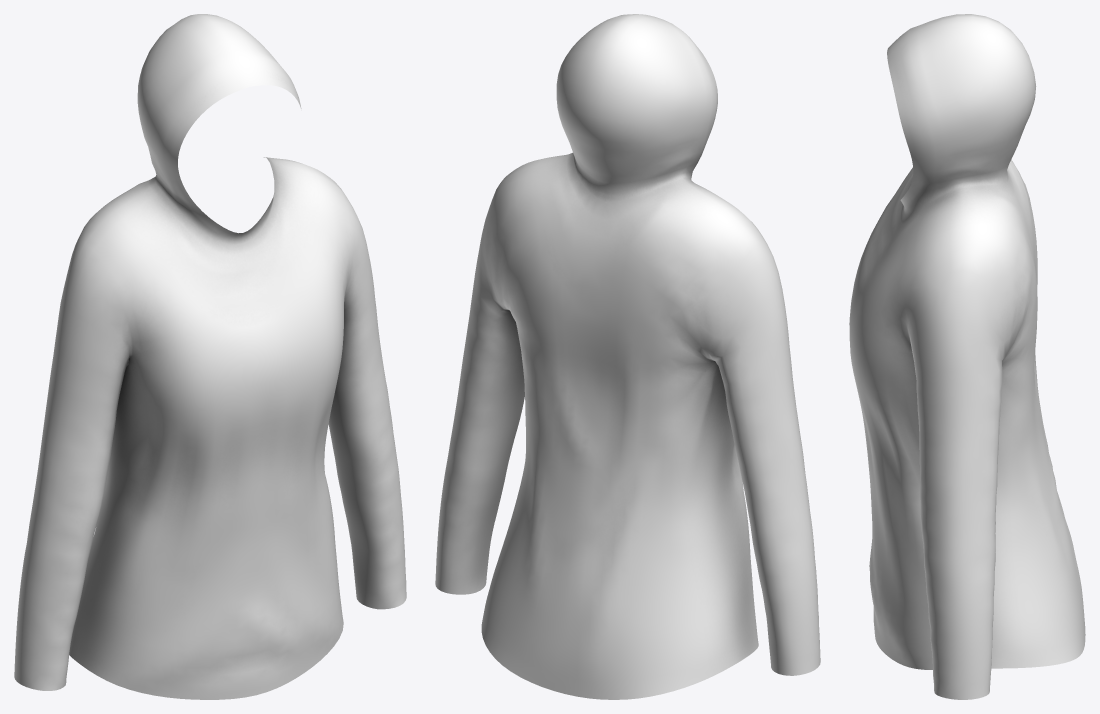
File: long-sleeve-hitting-tees-with-hood.glb
3 views of the same model, side by side, from view 1: azimuth 30°, elevation 25°; view 2: azimuth 150°, elevation 25°; view 3: azimuth 270°, elevation 25° (orthographic). The views are drawn at different scales.
Parts seen in each view (by area): view 1: Dress_1_Group6255_0003_Dress_1_Group6255_0003; view 2: Dress_1_Group6255_0003_Dress_1_Group6255_0003; view 3: Dress_1_Group6255_0003_Dress_1_Group6255_0003.
Boxes of the visible parts, left/top/right/bottom form: Dress_1_Group6255_0003_Dress_1_Group6255_0003: left=14, top=14, right=406, bottom=699; Dress_1_Group6255_0003_Dress_1_Group6255_0003: left=435, top=14, right=820, bottom=699; Dress_1_Group6255_0003_Dress_1_Group6255_0003: left=849, top=14, right=1085, bottom=699.
Bounding box in the file's own units: 0.13 × 0.2079 × 0.072.
5 materials, 5 textured.
